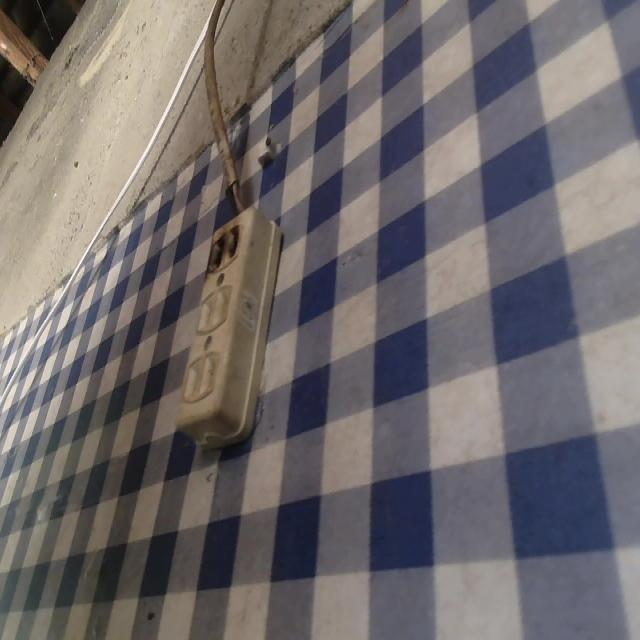-: (203, 227, 252, 276)
